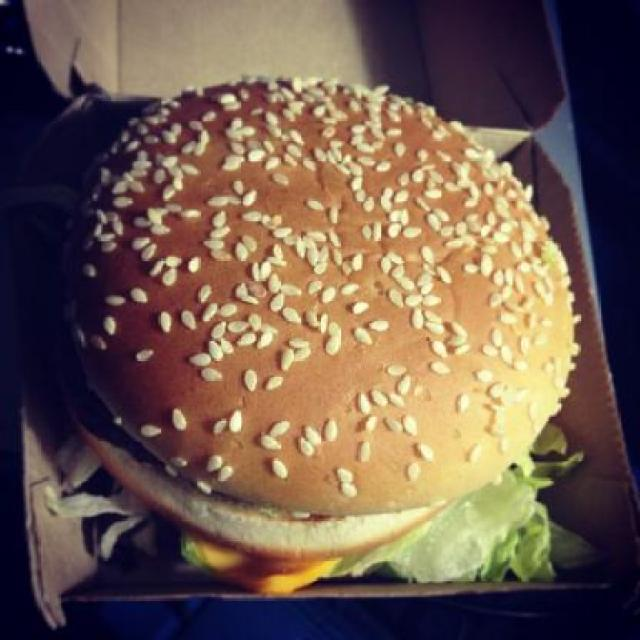Hamburger: (61, 75, 597, 593)
